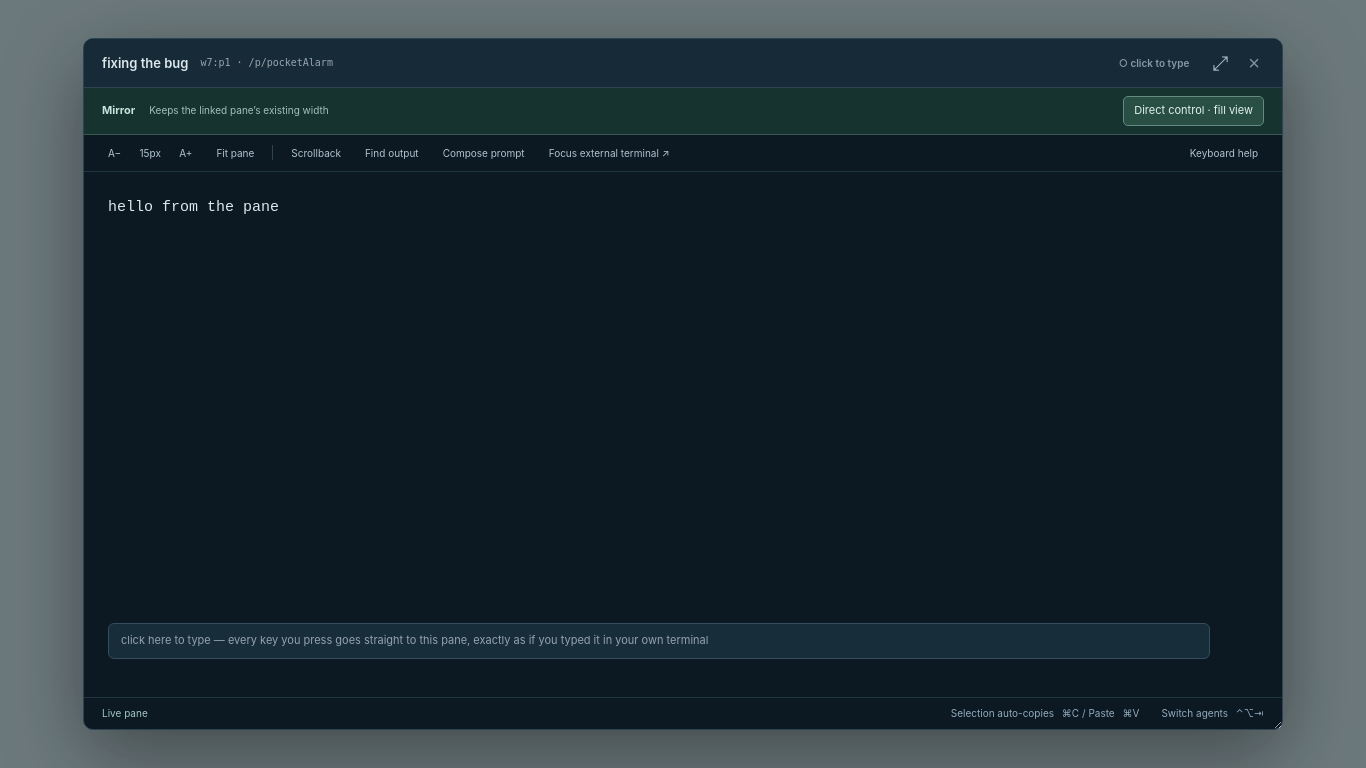
raises the external terminal only from its explicit control
Expected: the text "hello from the pane" is shown, 108,196 -> 279,220
Click the button "Focus external terminal ↗" at point(609, 153), box 543,142 -> 675,164
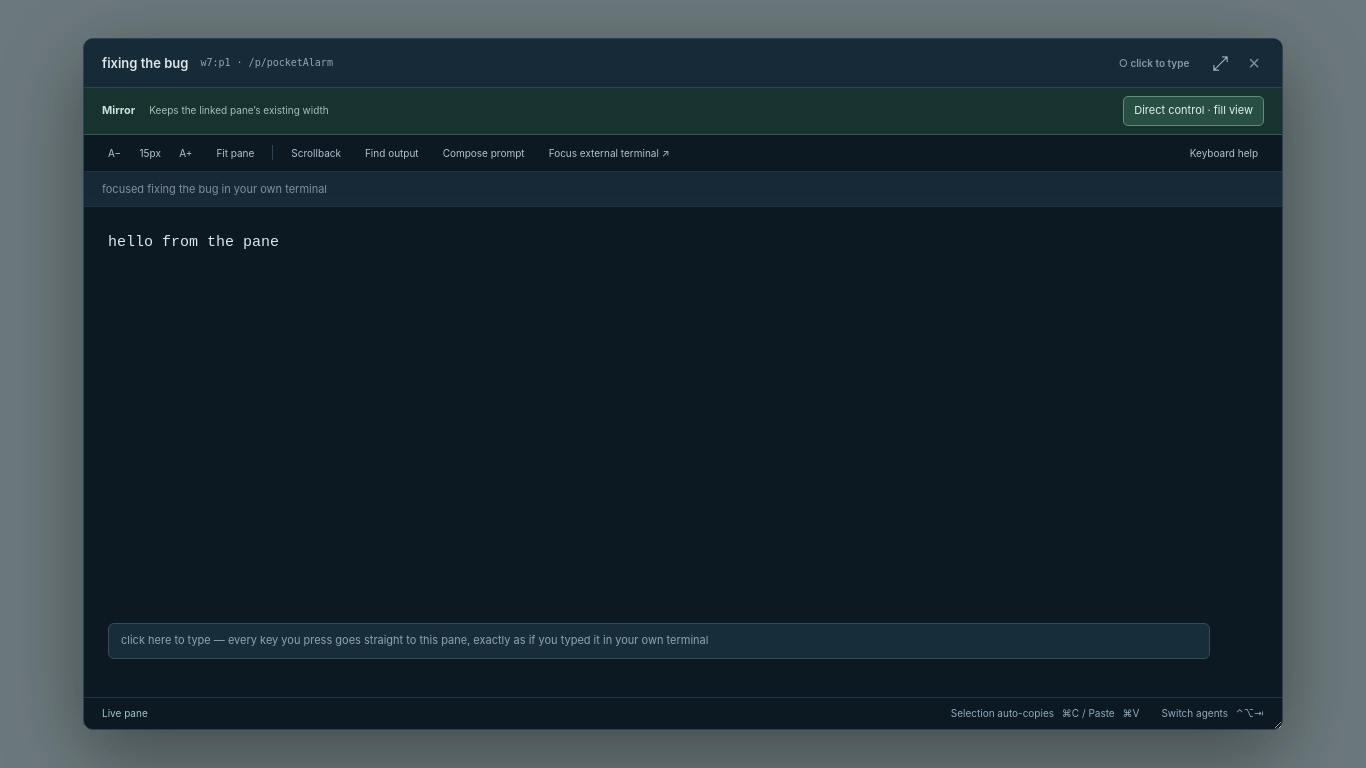
Now the text "focused fixing the bug in your own terminal" is shown, box 84,172 -> 1282,207
